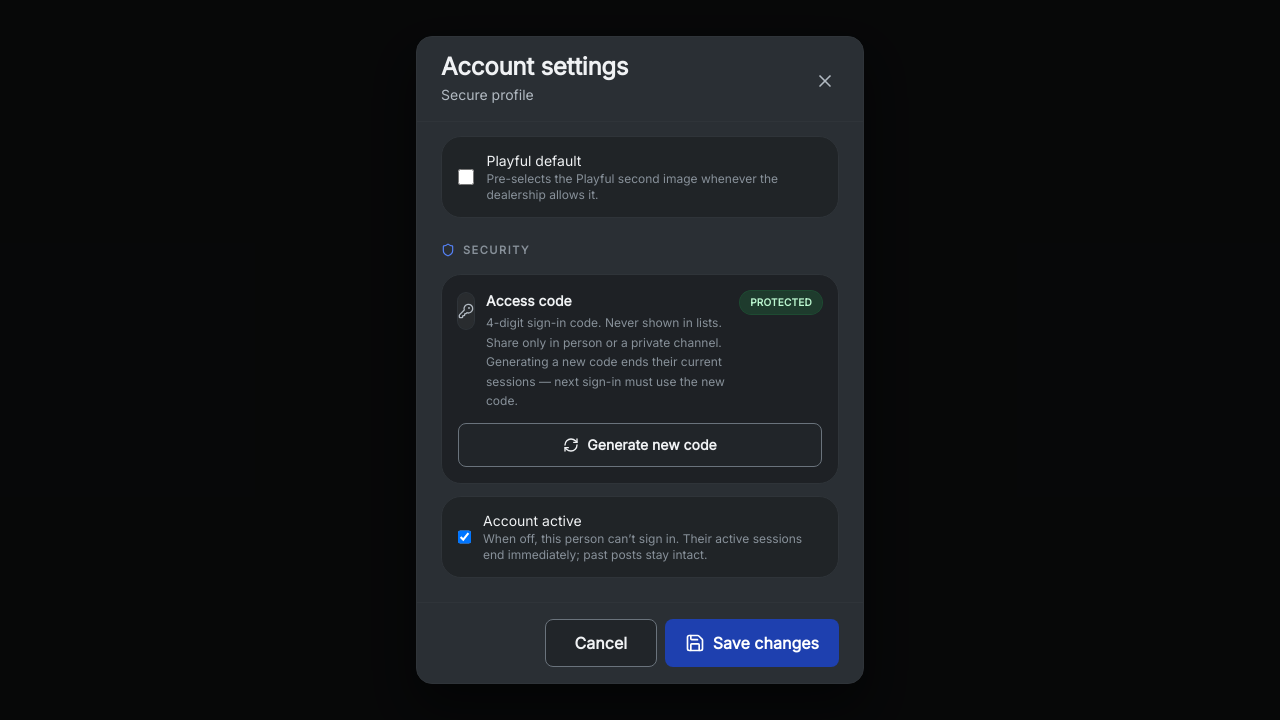
Test case: secure credential handoff › notifies the parent immediately after distribution is acknowledged
(page scrolled)
Click the button "Generate new code" at x=640, y=444, box left=458, top=422, right=822, bottom=466
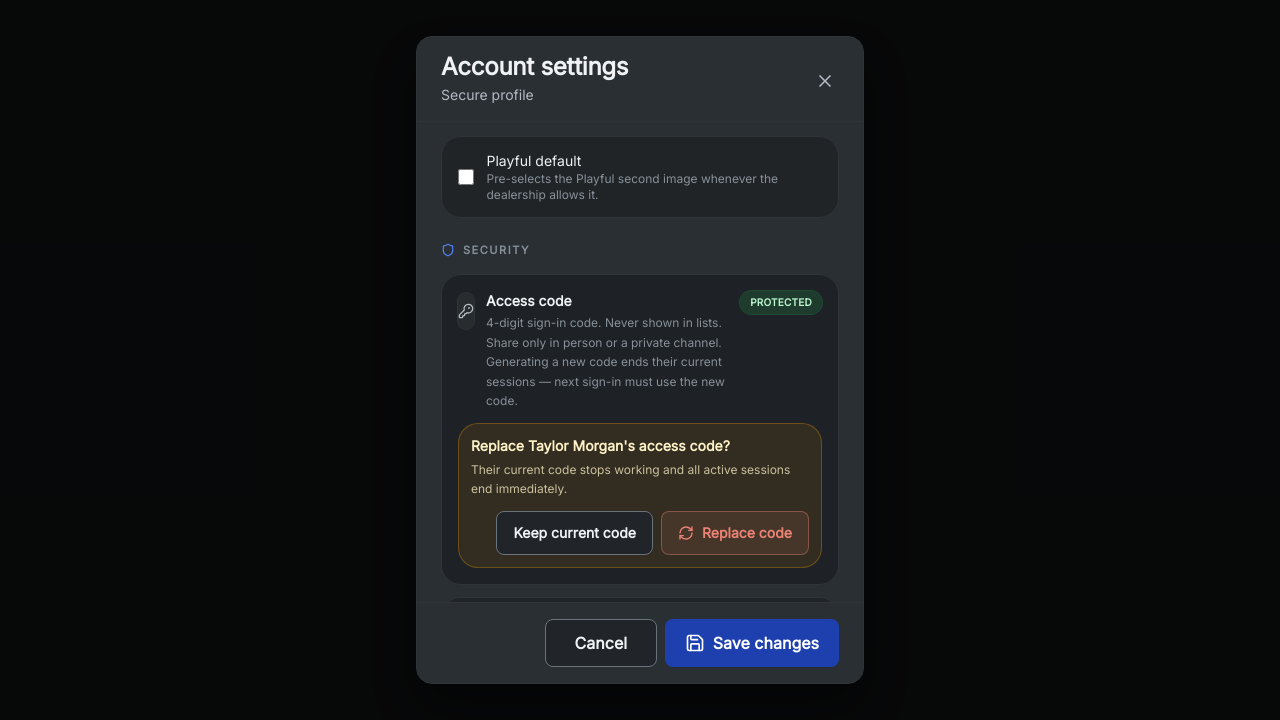
Click the button "Replace code" at x=735, y=532, box left=661, top=510, right=809, bottom=554
(page scrolled)
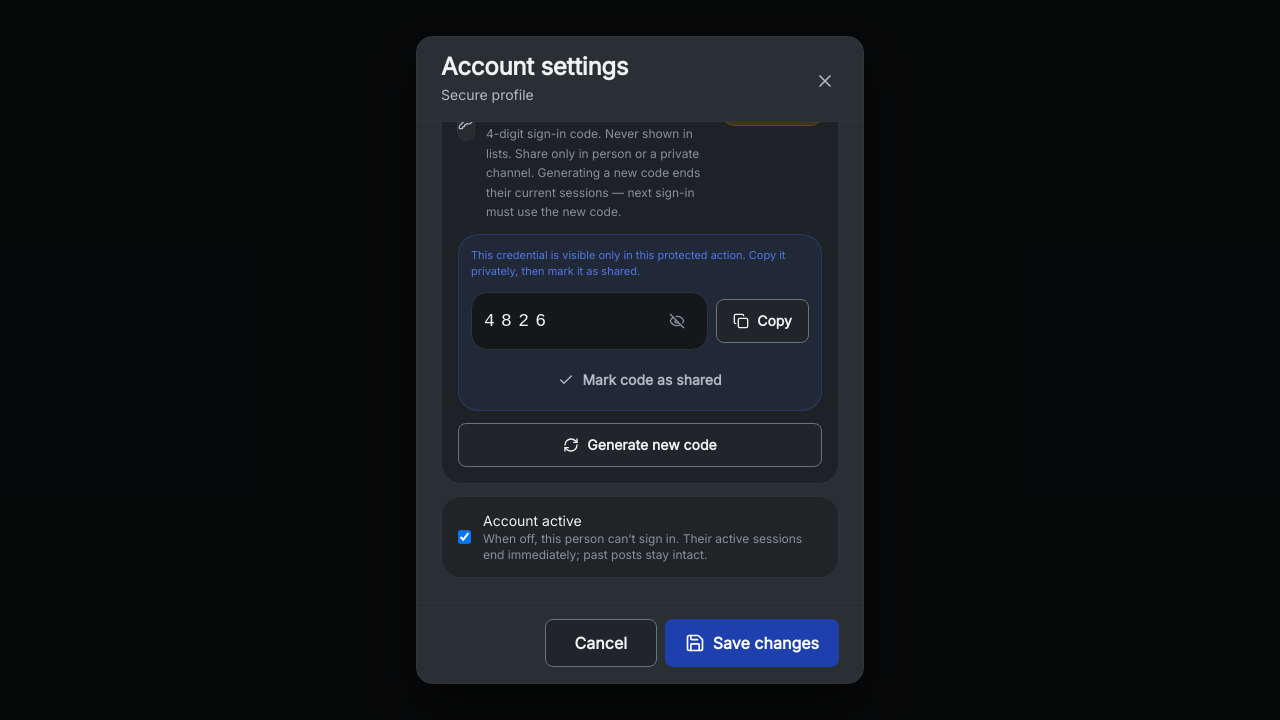
Result: the text "4826" is shown at left=484, top=308, right=552, bottom=332
Click the button "Mark code as shared" at x=640, y=380, box left=471, top=362, right=809, bottom=398
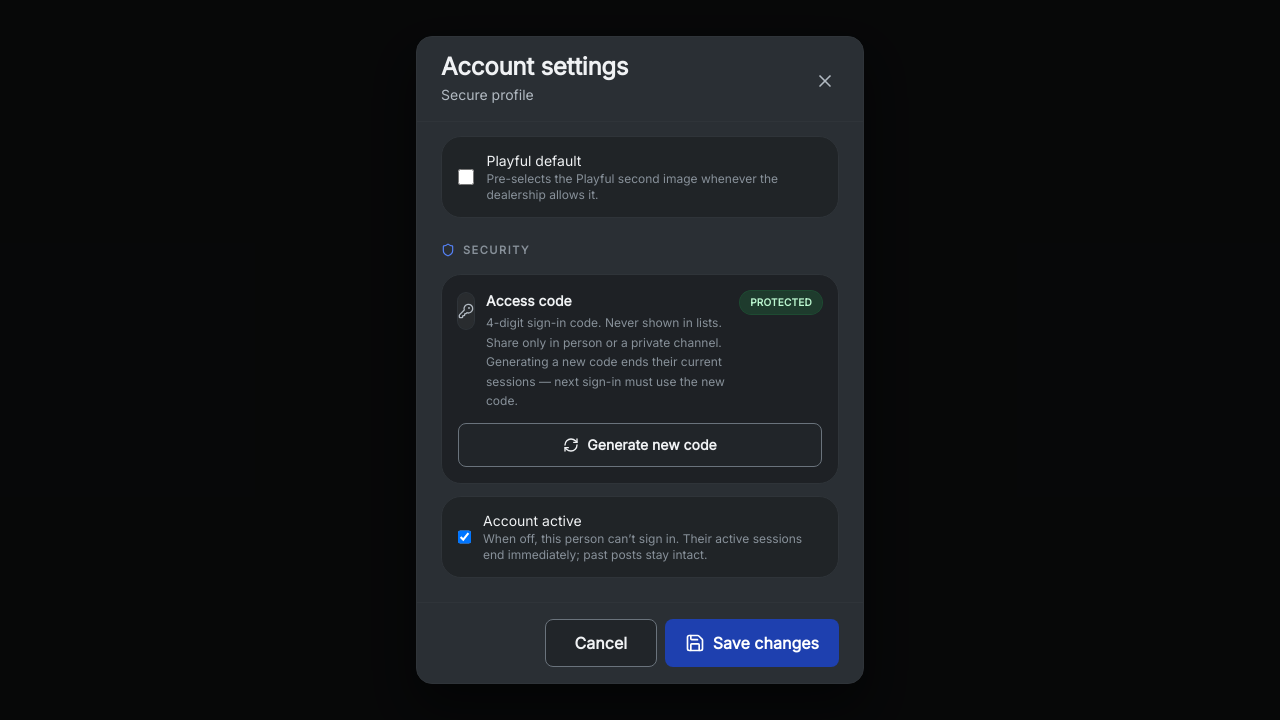
Result: the text "4826" is gone
